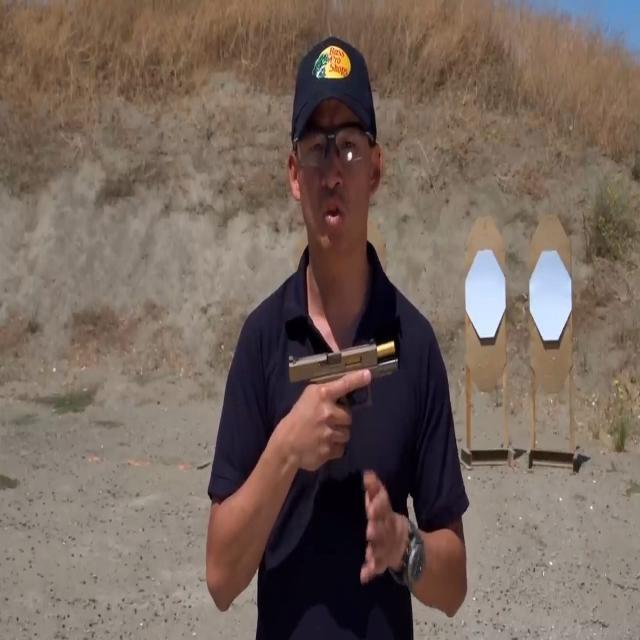gun: (285, 338, 400, 392)
